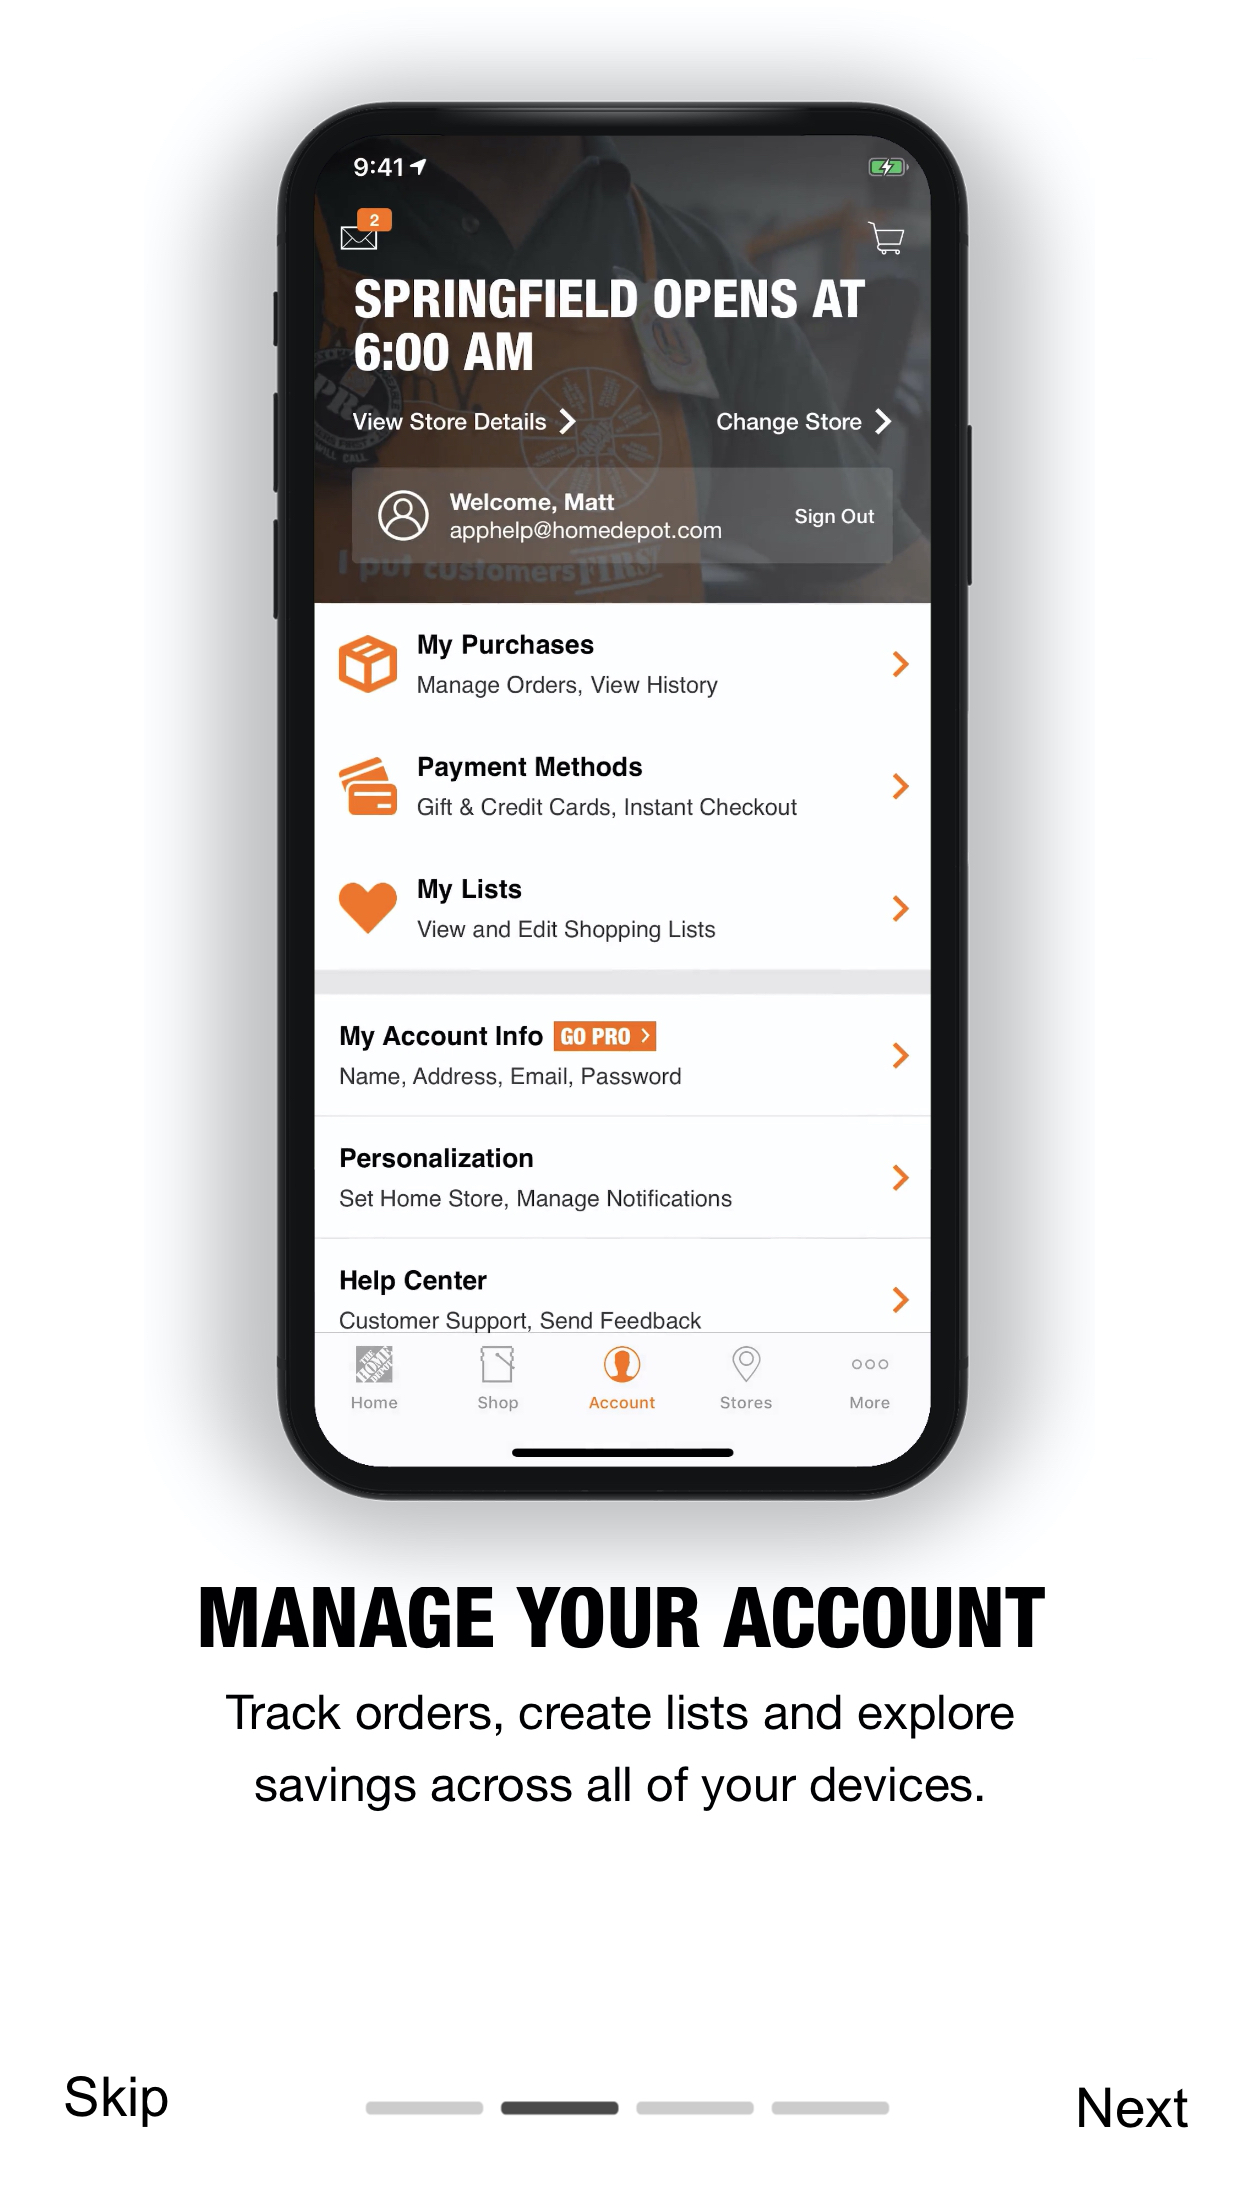Image: (271, 103, 975, 1500)
PageIndicator: (365, 2100, 890, 2115)
Text: (226, 1692, 1015, 1811), (200, 1586, 1045, 1648), (65, 2075, 168, 2128), (1078, 2087, 1187, 2128)
